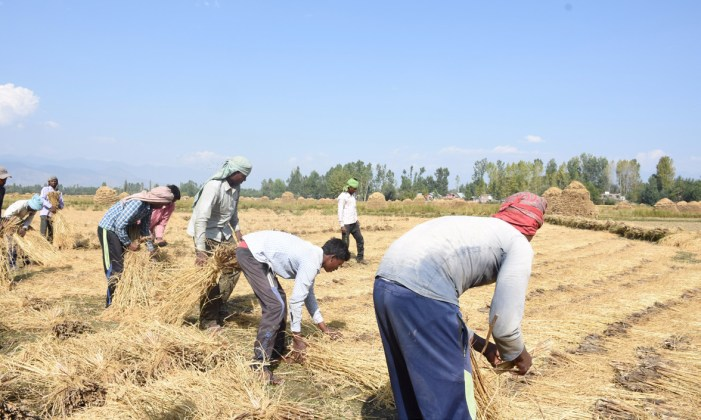NOTSAFE: (373, 190, 549, 321), (193, 153, 253, 247), (236, 239, 350, 286), (94, 185, 175, 250), (337, 174, 361, 231)
